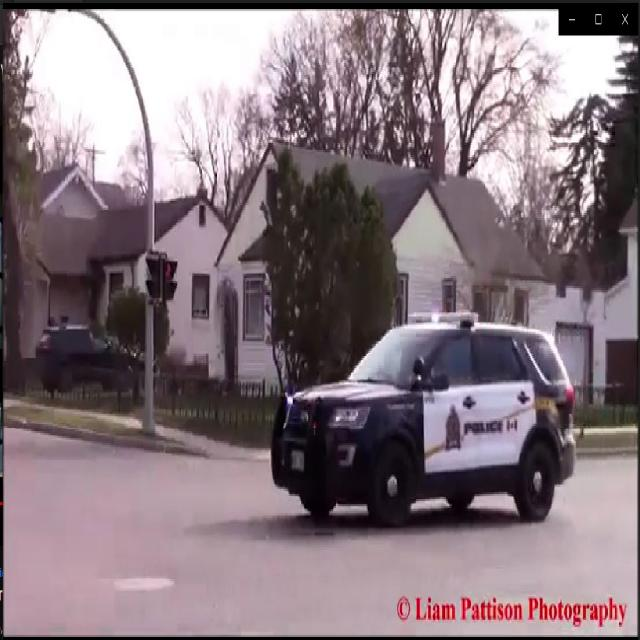emergency: (270, 306, 576, 524)
